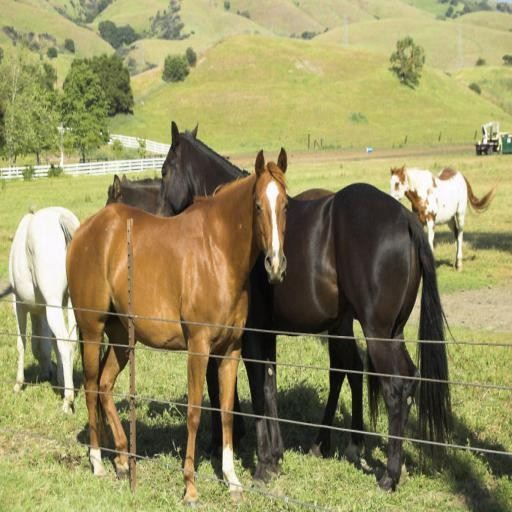horse: (8, 120, 500, 511)
